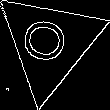O_E: (22, 18, 77, 69)
